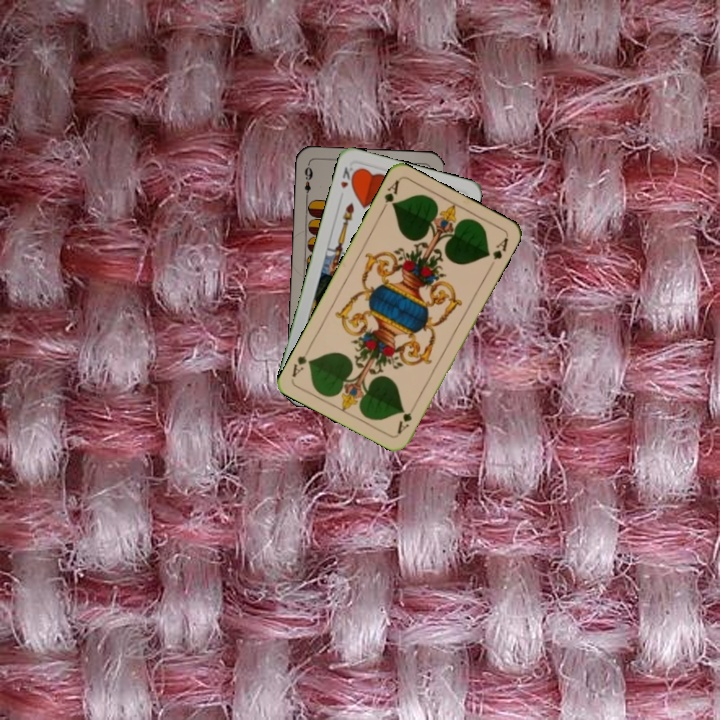E9: (300, 163, 315, 201)
GA: (377, 176, 402, 215), (393, 399, 419, 436)
HK: (336, 163, 359, 191)
